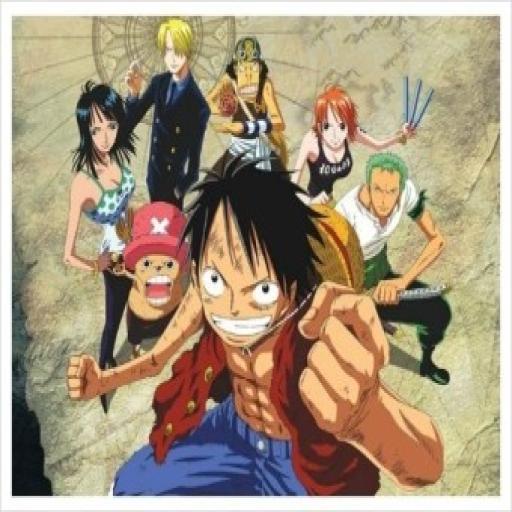Luffy: (188, 157, 326, 357)
Nami: (307, 82, 364, 158)
NicoRobin: (66, 70, 138, 178)
Usopp: (223, 30, 274, 110)
Zoro: (358, 149, 417, 222)
sanji: (149, 12, 205, 81)
